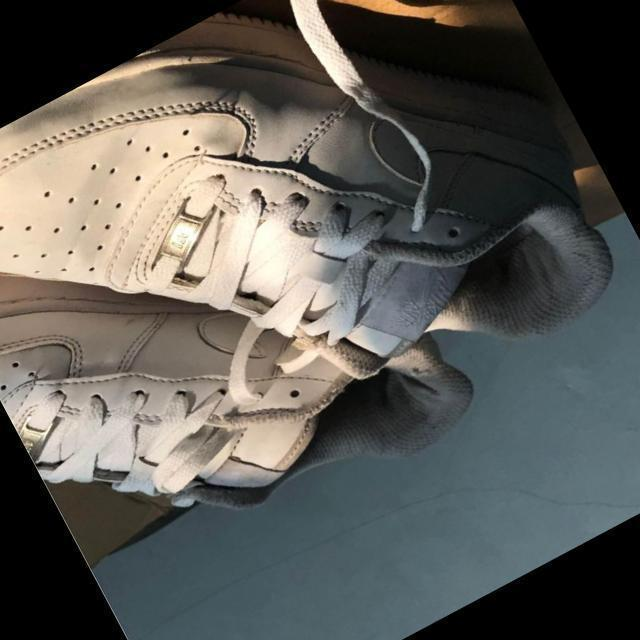nike fake air force: (0, 0, 619, 541), (0, 60, 487, 592)
